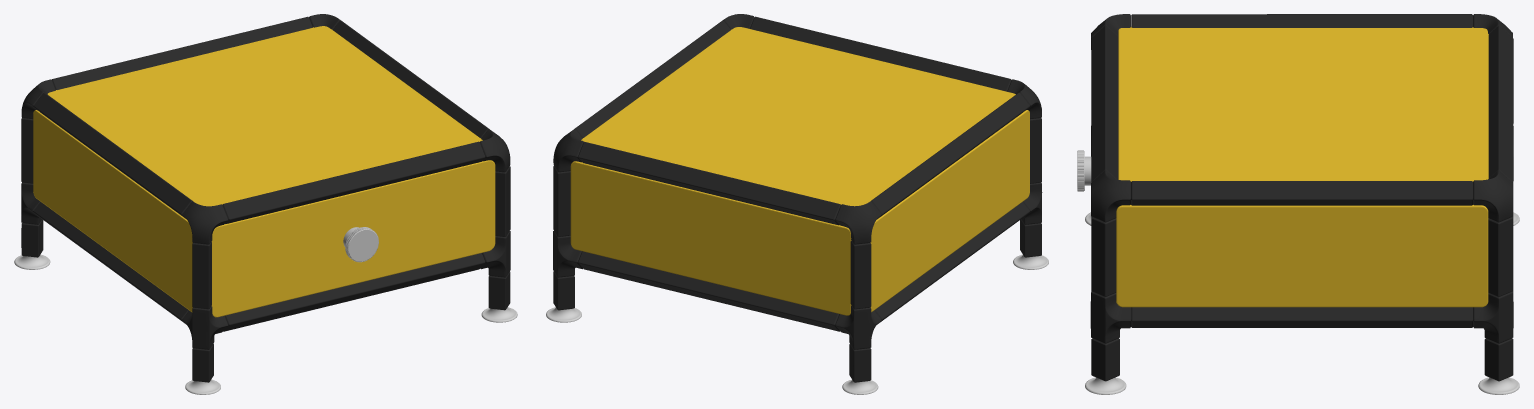
The picture shows the model from 3 angles, left to right: view 1: azimuth 30°, elevation 25°; view 2: azimuth 150°, elevation 25°; view 3: azimuth 270°, elevation 25°; orthographic projection. The views are drawn at different scales.
Visible parts, largest first — view 1: 329x329x79; view 2: 329x329x79; view 3: 329x329x79.
Boxes of the visible parts, x1=… form: 329x329x79: x1=14, y1=14, x2=517, y2=394; 329x329x79: x1=546, y1=14, x2=1048, y2=394; 329x329x79: x1=1077, y1=14, x2=1519, y2=394.
Size of the model in its own units: 0.4188 by 0.2183 by 0.4257.
